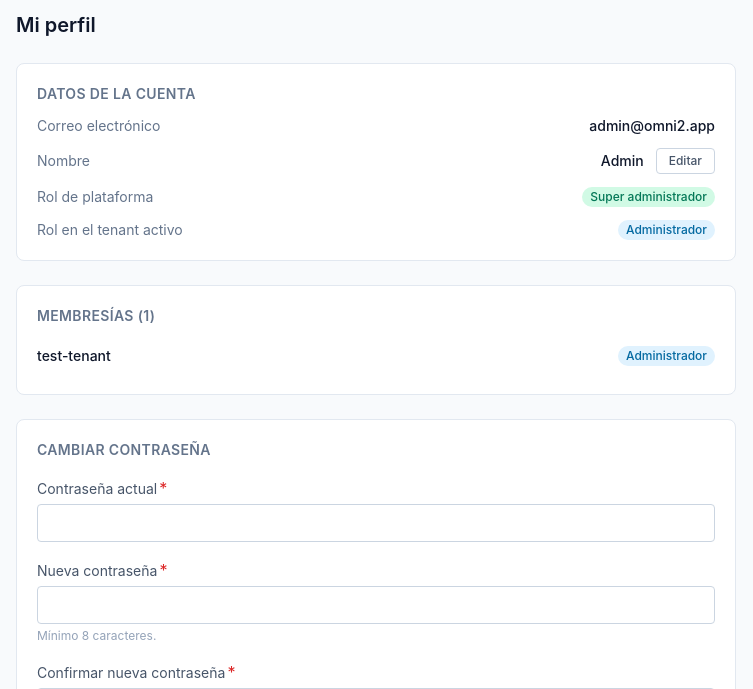
Test: ProfileSection › edita el nombre visible y delega en updateMe
The width and height of the screenshot is (753, 689).
Click the button "Editar" at (685, 161), box [656,148,715,174]
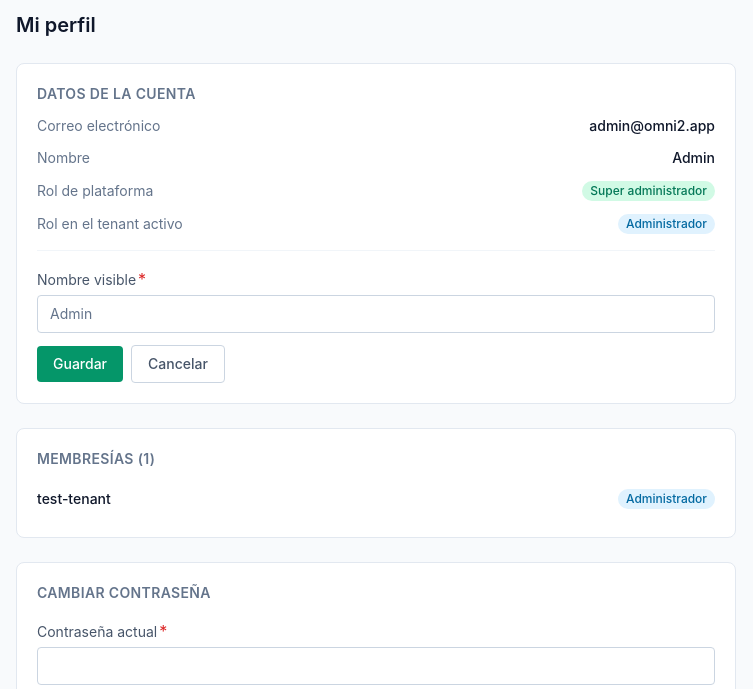
Replace the text in the field labelled "Nombre visible" with "Nuevo Nombre" at (376, 314), box [37,295,715,333]
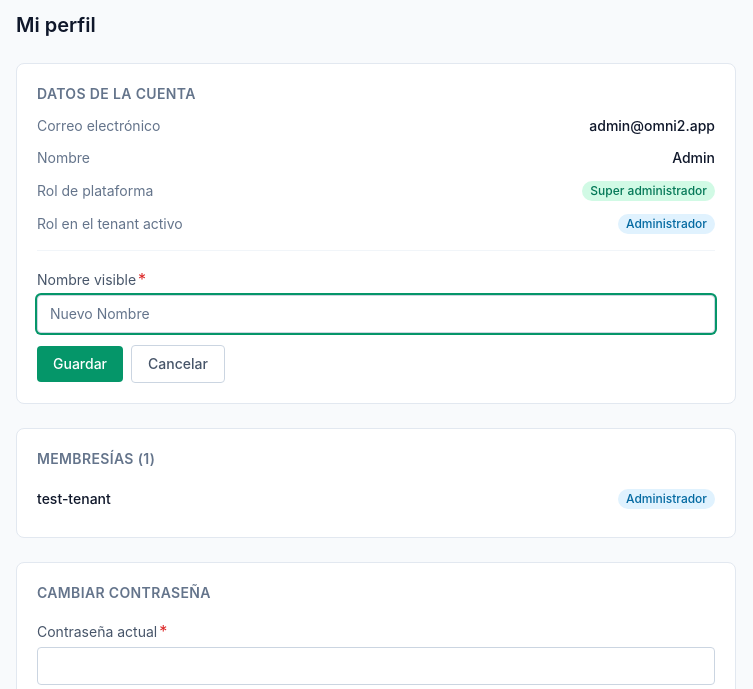
Click the button "Guardar" at (80, 364), box [37,346,123,382]
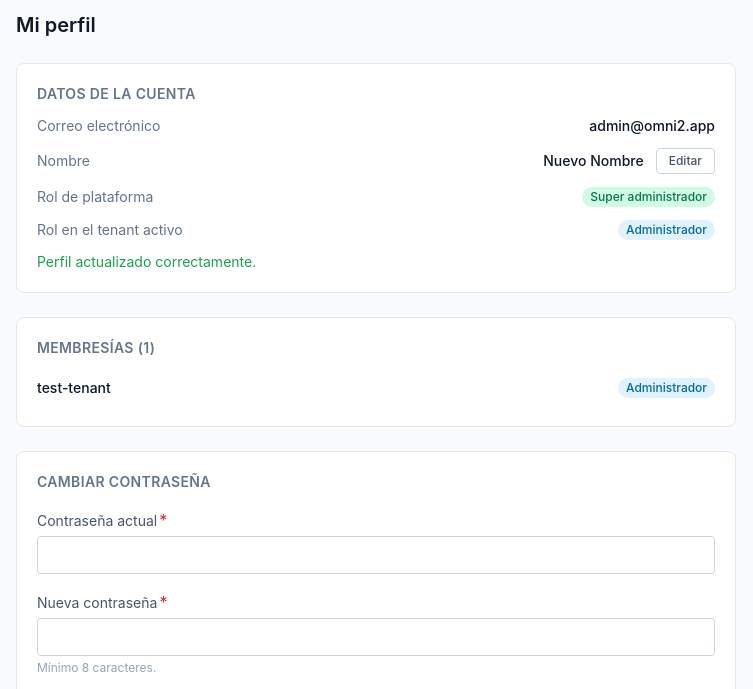
Now the message reads "Perfil actualizado correctamente.", box [37,253,256,270]
Now the text "Nuevo Nombre" is shown, box [543,151,644,171]
